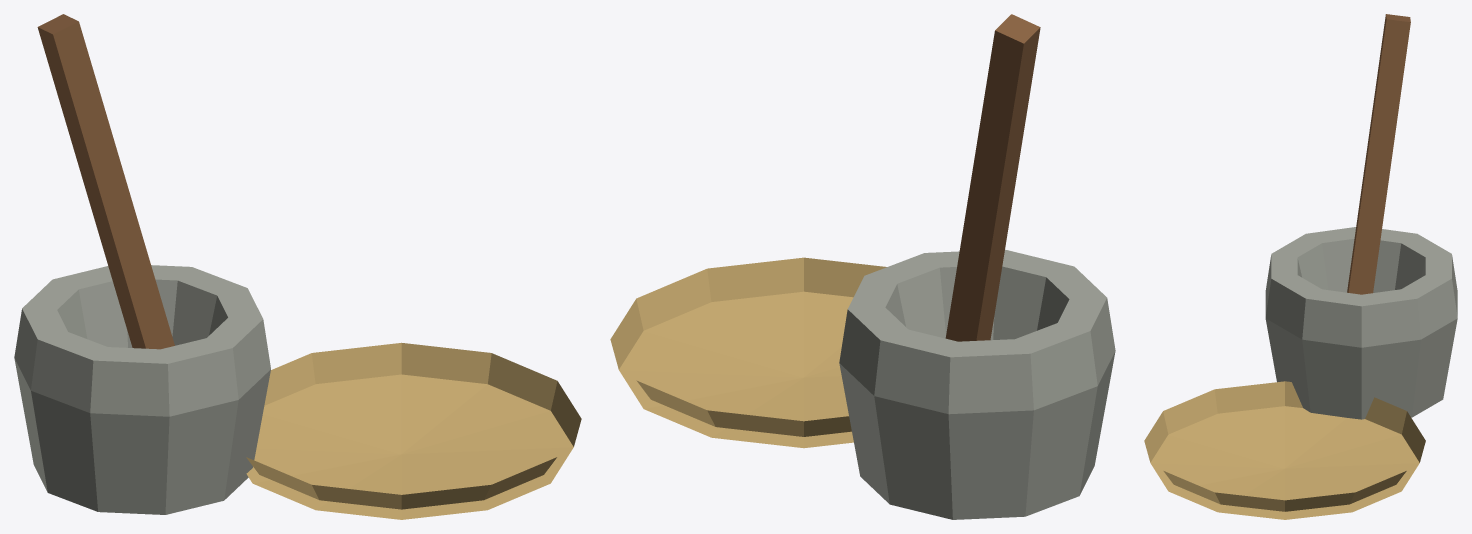
Rendered from viet_rice_mortar.glb.
3 views of the same model, side by side, from view 1: azimuth 30°, elevation 25°; view 2: azimuth 150°, elevation 25°; view 3: azimuth 270°, elevation 25° (orthographic). The views are drawn at different scales.
Visible parts, largest first — view 1: viet_rice_mortar; view 2: viet_rice_mortar; view 3: viet_rice_mortar.
Part boxes in pixels (x1,y1,x2,y2): viet_rice_mortar: [14, 14, 581, 519]; viet_rice_mortar: [610, 14, 1115, 519]; viet_rice_mortar: [1144, 14, 1457, 519].
Bounding box in the file's own units: 1 × 0.8967 × 0.7261.
